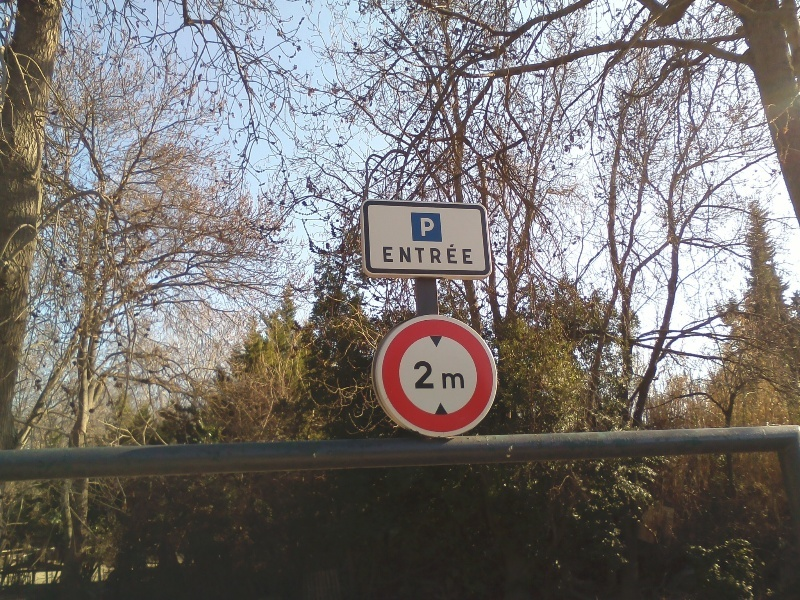text: (417, 361, 432, 391), (385, 244, 400, 266), (401, 244, 416, 266), (417, 244, 432, 266), (433, 244, 448, 266), (449, 244, 464, 266), (449, 370, 464, 391), (420, 217, 432, 238), (465, 244, 475, 266), (440, 370, 448, 391), (433, 361, 436, 391), (433, 217, 436, 238), (414, 361, 416, 391), (465, 370, 467, 391), (383, 244, 384, 266)
